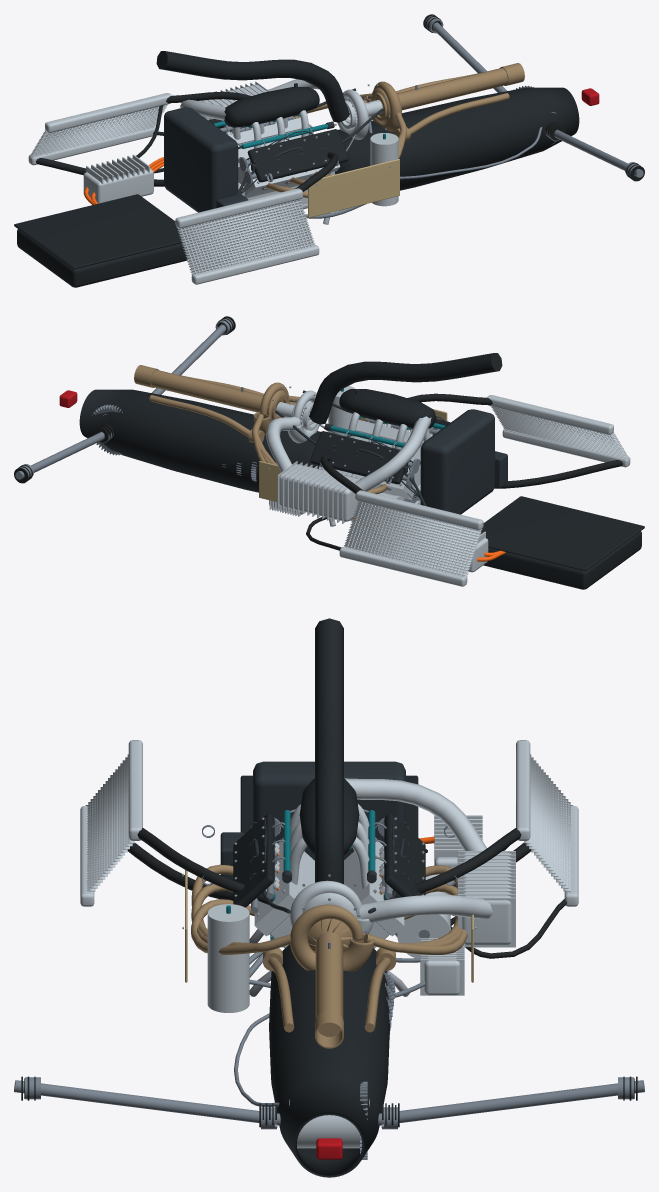
The model's file is engine.source.glb.
3 views of the same model, one above another, from view 1: azimuth 30°, elevation 25°; view 2: azimuth 150°, elevation 25°; view 3: azimuth 270°, elevation 25° (orthographic). The views are drawn at different scales.
Parts seen in each view (by area): view 1: GB-0001 | Gearbox structural casing | Силовой корпу, HYB-0070 | Energy store lid | Крышка Energy Store, FUE-0030 | Fuel cell | Защищённый топливный, TUR-0098 | Fresh air trunk | Подача воздуха от, AUX-0028 | Exhaust heat shield | Тепловой экран в, HYB-0045 | Energy store enclosure | Корпус Energy Store, VAL-0001 | Cam cover -1 | Крышка распределите, TUR-0115 | Intake plenum | Впускной ресивер, TUR-0096 | Tailpipe | Выпускная труба, HYB-0071 | Power inverter | Силовой инвертор, CL-0003 | Radiator header | Верхний бачок ради, CL-0064 | Radiator header | Верхний бачок ради (+17 smaller); view 2: GB-0001 | Gearbox structural casing | Силовой корпу, HYB-0070 | Energy store lid | Крышка Energy Store, FUE-0030 | Fuel cell | Защищённый топливный, TUR-0098 | Fresh air trunk | Подача воздуха от, HYB-0045 | Energy store enclosure | Корпус Energy Store, TUR-0099 | Charge air cooler | Охладитель надду, VAL-0026 | Cam cover 1 | Крышка распределите, TUR-0115 | Intake plenum | Впускной ресивер, TUR-0096 | Tailpipe | Выпускная труба, CL-0064 | Radiator header | Верхний бачок ради, CL-0003 | Radiator header | Верхний бачок ради, CL-0065 | Radiator lower header | Нижний бачок ра (+15 smaller); view 3: GB-0001 | Gearbox structural casing | Силовой корпу, TUR-0098 | Fresh air trunk | Подача воздуха от, FUE-0030 | Fuel cell | Защищённый топливный, CL-0125 | Oil reservoir | Резервуар сухого ка, TUR-0116 | Charge cooler return | Охлаждённый над, TUR-0099 | Charge air cooler | Охладитель надду, DRV-0011 | Rear halfshaft | Задняя полуось, DRV-0038 | Rear halfshaft | Задняя полуось, VAL-0001 | Cam cover -1 | Крышка распределите, TUR-0043 | Turbine scroll | Улитка турбины, TUR-0114 | Compressor discharge | Выход компрессо, VAL-0026 | Cam cover 1 | Крышка распределите (+22 smaller).
Part boxes in pixels (bbox=[...]): GB-0001 | Gearbox structural casing | Силовой корпу: bbox=[338, 87, 579, 190]; HYB-0070 | Energy store lid | Крышка Energy Store: bbox=[14, 194, 182, 269]; FUE-0030 | Fuel cell | Защищённый топливный: bbox=[164, 107, 238, 212]; TUR-0098 | Fresh air trunk | Подача воздуха от: bbox=[156, 51, 349, 122]; AUX-0028 | Exhaust heat shield | Тепловой экран в: bbox=[308, 159, 399, 217]; HYB-0045 | Energy store enclosure | Корпус Energy Store: bbox=[17, 229, 187, 287]; VAL-0001 | Cam cover -1 | Крышка распределите: bbox=[247, 129, 348, 182]; TUR-0115 | Intake plenum | Впускной ресивер: bbox=[224, 87, 319, 127]; TUR-0096 | Tailpipe | Выпускная труба: bbox=[397, 68, 507, 110]; HYB-0071 | Power inverter | Силовой инвертор: bbox=[83, 168, 153, 203]; CL-0003 | Radiator header | Верхний бачок ради: bbox=[175, 188, 302, 228]; CL-0064 | Radiator header | Верхний бачок ради: bbox=[45, 93, 171, 132]; GB-0001 | Gearbox structural casing | Силовой корпу: bbox=[79, 389, 320, 492]; HYB-0070 | Energy store lid | Крышка Energy Store: bbox=[481, 496, 644, 571]; FUE-0030 | Fuel cell | Защищённый топливный: bbox=[420, 409, 494, 514]; TUR-0098 | Fresh air trunk | Подача воздуха от: bbox=[309, 353, 502, 424]; HYB-0045 | Energy store enclosure | Корпус Energy Store: bbox=[483, 531, 641, 589]; TUR-0099 | Charge air cooler | Охладитель надду: bbox=[279, 464, 359, 521]; VAL-0026 | Cam cover 1 | Крышка распределите: bbox=[310, 431, 408, 484]; TUR-0115 | Intake plenum | Впускной ресивер: bbox=[339, 389, 435, 428]; TUR-0096 | Tailpipe | Выпускная труба: bbox=[151, 370, 262, 412]; CL-0064 | Radiator header | Верхний бачок ради: bbox=[356, 490, 483, 530]; CL-0003 | Radiator header | Верхний бачок ради: bbox=[487, 395, 613, 434]; CL-0065 | Radiator lower header | Нижний бачок ра: bbox=[339, 546, 467, 586]; GB-0001 | Gearbox structural casing | Силовой корпу: bbox=[269, 944, 389, 1177]; TUR-0098 | Fresh air trunk | Подача воздуха от: bbox=[315, 618, 343, 884]; FUE-0030 | Fuel cell | Защищённый топливный: bbox=[253, 761, 405, 860]; CL-0125 | Oil reservoir | Резервуар сухого ка: bbox=[207, 904, 249, 1012]; TUR-0116 | Charge cooler return | Охлаждённый над: bbox=[344, 778, 486, 850]; TUR-0099 | Charge air cooler | Охладитель надду: bbox=[462, 852, 511, 944]; DRV-0011 | Rear halfshaft | Задняя полуось: bbox=[14, 1080, 280, 1125]; DRV-0038 | Rear halfshaft | Задняя полуось: bbox=[378, 1080, 644, 1125]; VAL-0001 | Cam cover -1 | Крышка распределите: bbox=[233, 813, 274, 907]; TUR-0043 | Turbine scroll | Улитка турбины: bbox=[290, 904, 374, 971]; TUR-0114 | Compressor discharge | Выход компрессо: bbox=[359, 894, 493, 922]; VAL-0026 | Cam cover 1 | Крышка распределите: bbox=[384, 813, 425, 897].
Bounding box in the file's own units: 2.35 × 0.7786 × 1.56.
